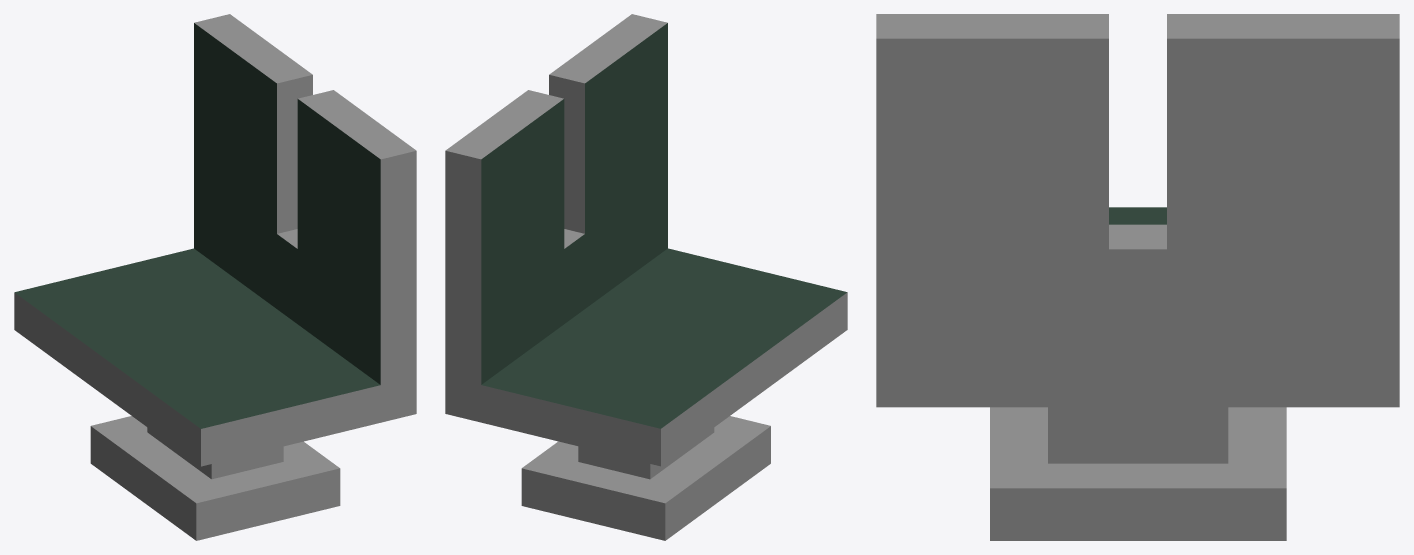
File: krzesło.fbx
The picture shows the model from 3 angles, left to right: view 1: azimuth 30°, elevation 25°; view 2: azimuth 150°, elevation 25°; view 3: azimuth 270°, elevation 25°; orthographic projection. The views are drawn at different scales.
Parts seen in each view (by area): view 1: krzesło 2; view 2: krzesło 2; view 3: krzesło 2.
Boxes of the visible parts, x1,y1,x2,y2 form: krzesło 2: [14, 14, 416, 540]; krzesło 2: [445, 14, 847, 540]; krzesło 2: [876, 14, 1399, 540].
Bounding box in the file's own units: 6 × 10 × 9.
